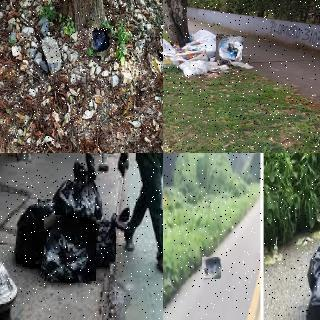Garbage: (42, 215, 98, 283), (14, 196, 54, 266), (52, 159, 88, 224), (86, 214, 119, 268), (82, 153, 106, 218), (216, 35, 243, 61), (88, 27, 111, 57), (179, 59, 211, 76), (202, 257, 222, 278)
